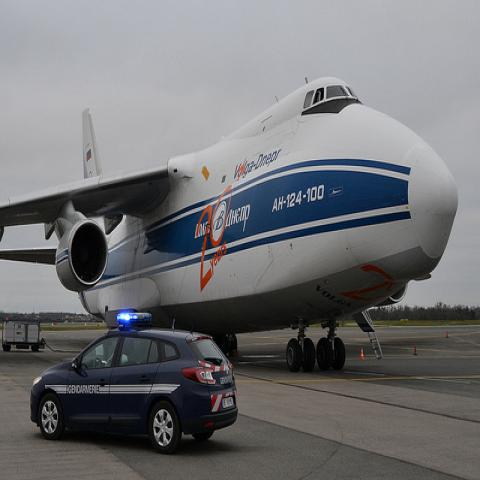car: (29, 311, 238, 454)
